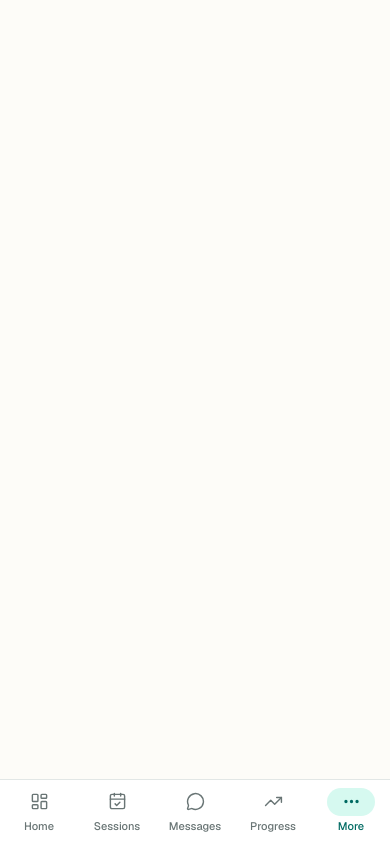
Scenario: ClientTabBar › labels every tab and reaches the remaining pages through More
Expected: the link "Home" is shown, [24,792,54,832]
Expected: the link "Sessions" is shown, [94,792,140,832]
# Billing is not a tab, so it must be reachable — and shown as current — under More.
Click the button "More": (351, 812) [312,780,389,843]
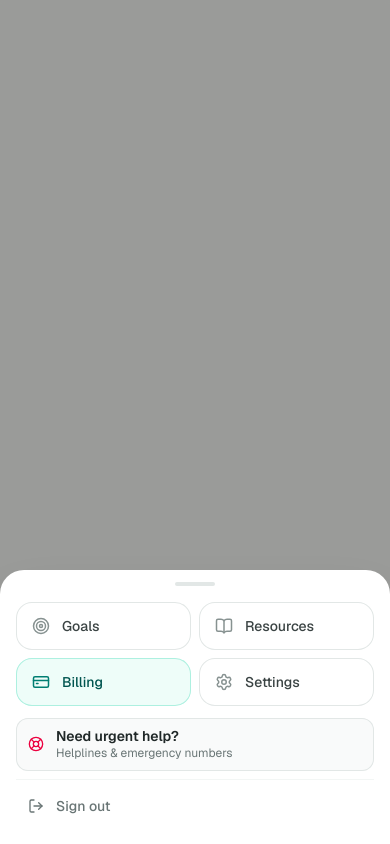
Expected: the link "Goals" is shown, [16,602,191,650]
Expected: the link "Resources" is shown, [199,602,374,650]
Expected: the link "Settings" is shown, [199,658,374,706]
